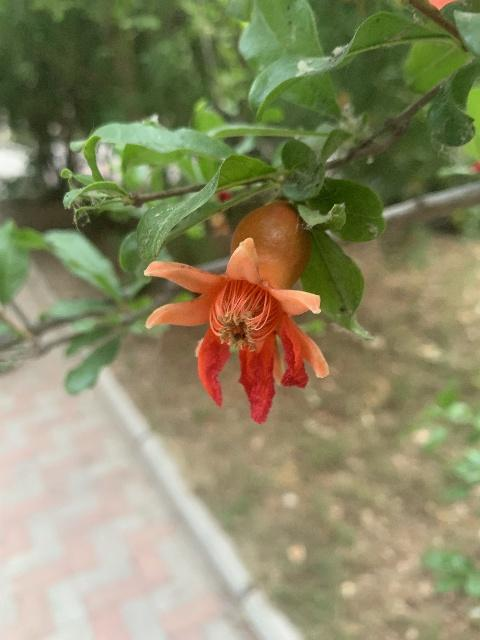flower: (143, 200, 327, 426)
